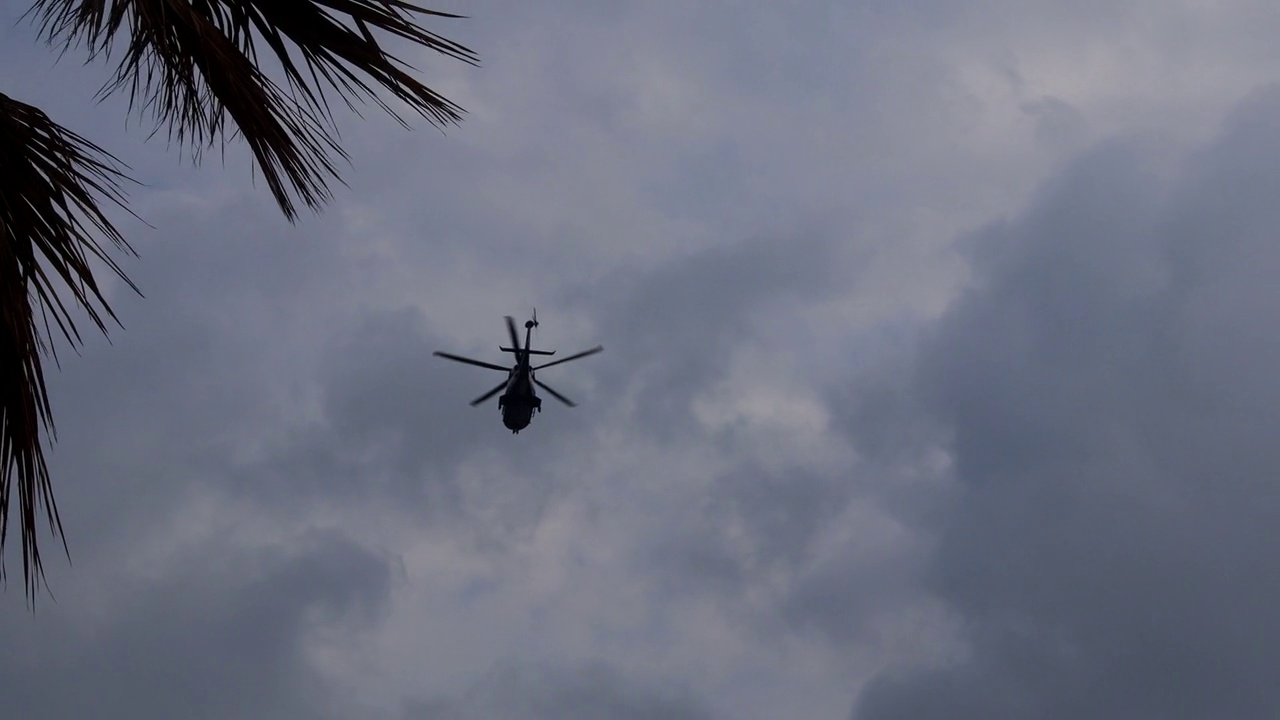heli: (430, 317, 603, 436)
